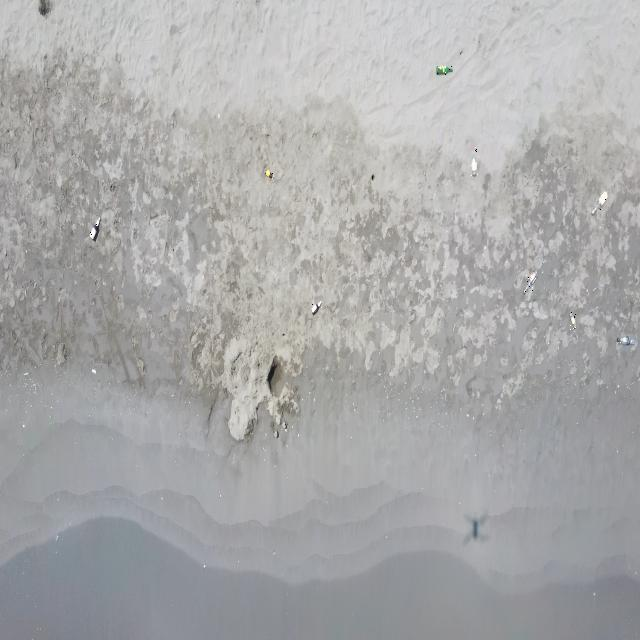glass: (591, 191, 607, 214), (524, 271, 537, 293), (90, 218, 102, 239), (471, 146, 478, 177), (617, 337, 636, 346), (436, 65, 453, 75), (311, 300, 322, 314), (569, 312, 576, 330), (265, 171, 274, 179)
